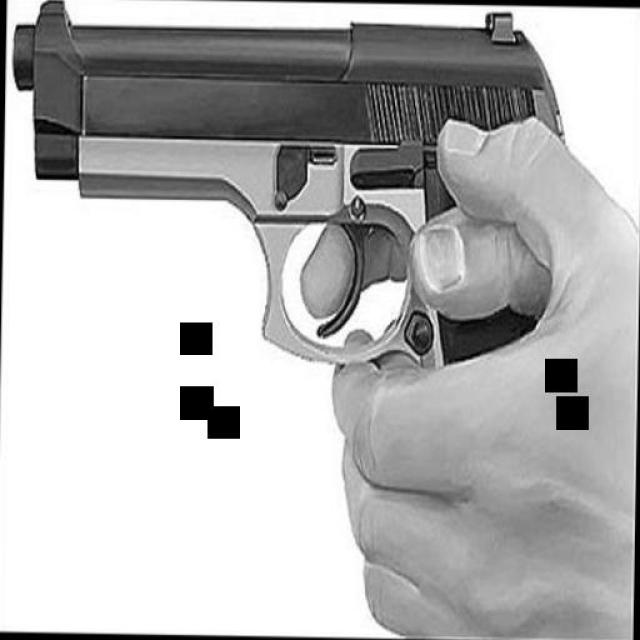gun: (1, 0, 559, 381)
